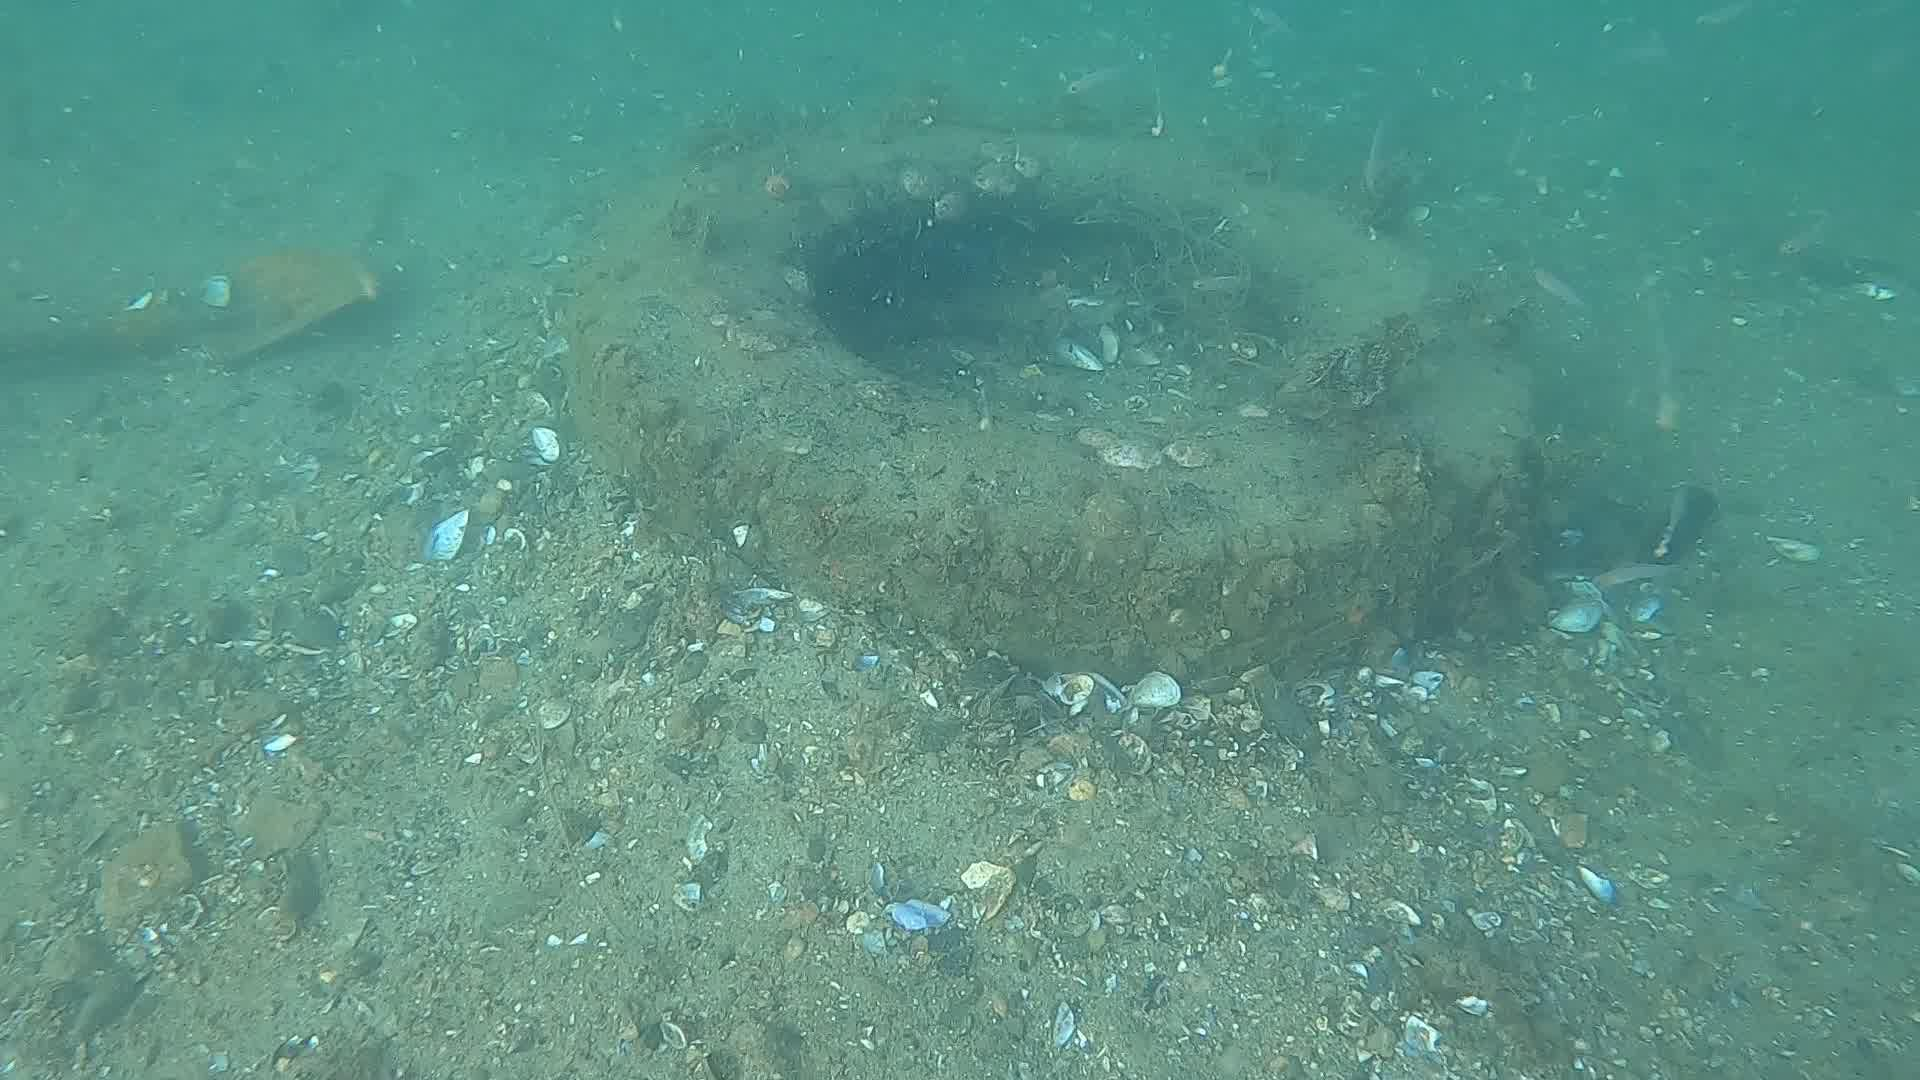tire: (574, 127, 1538, 680)
